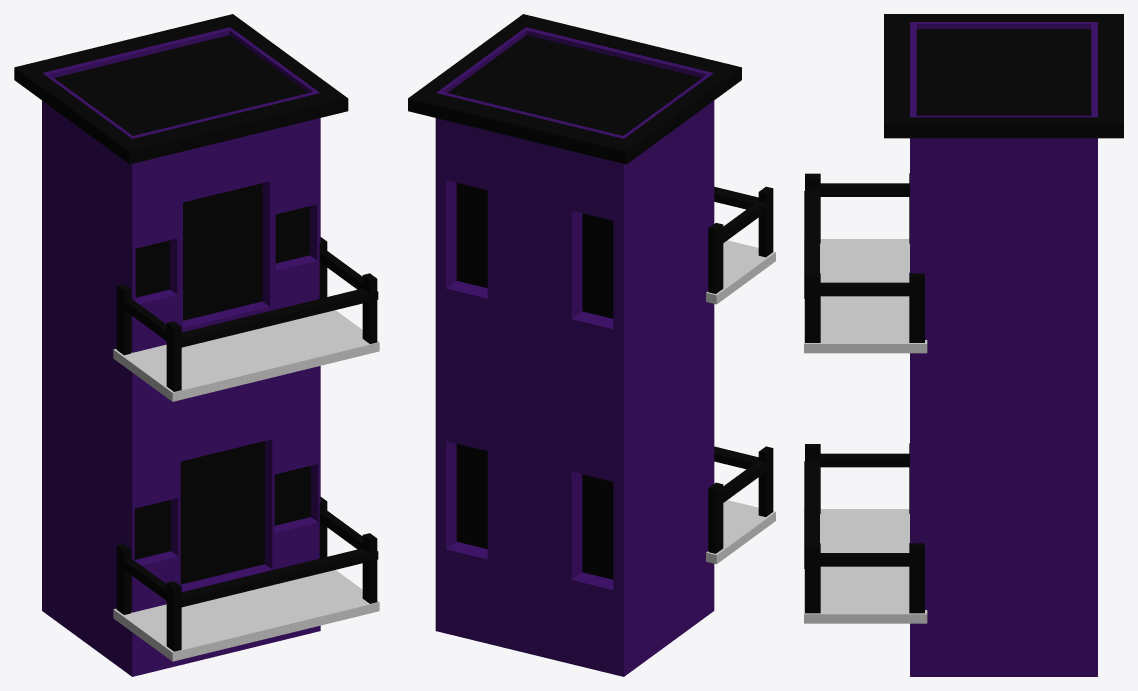
File: SDG_SmallB02.fbx
The picture shows the model from 3 angles, left to right: view 1: azimuth 30°, elevation 25°; view 2: azimuth 150°, elevation 25°; view 3: azimuth 270°, elevation 25°; orthographic projection. The views are drawn at different scales.
Visible parts, largest first — view 1: Box012; view 2: Box012; view 3: Box012.
Boxes of the visible parts, box(x1,y1,x2,y2) form: Box012: box(14, 14, 379, 676); Box012: box(408, 14, 775, 676); Box012: box(804, 14, 1123, 676).
Size of the model in its own units: 111 by 262 by 136.
